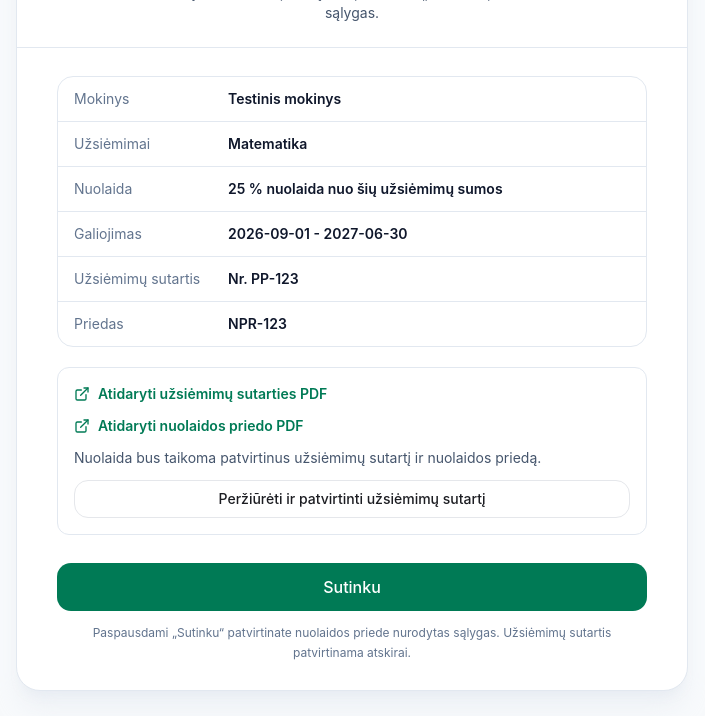
Test: SchoolDiscountAccept before the main contract is accepted › shows both documents before confirmation and keeps the main approval step after the annex is accepted
(page scrolled)
Click the button "Sutinku": (352, 587) x1=57 y1=563 x2=647 y2=611
(page scrolled)
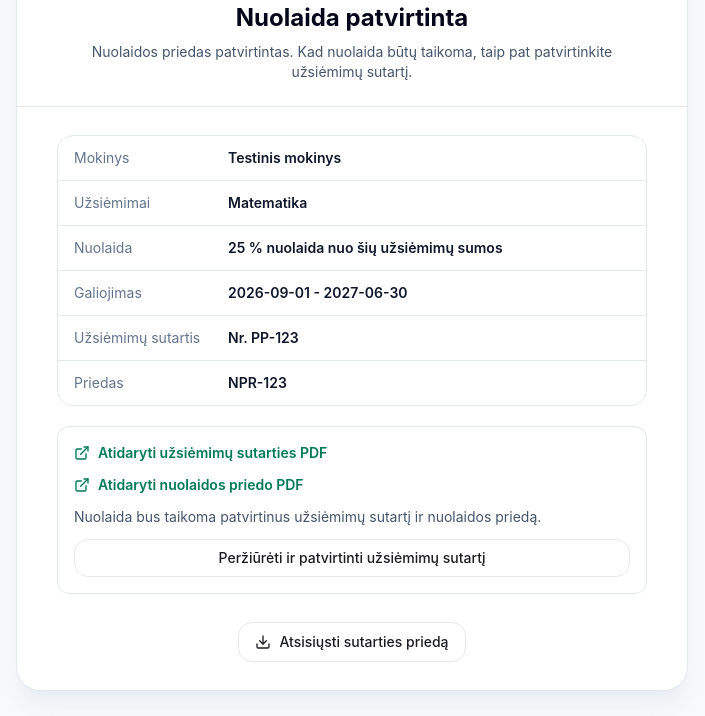
expect the link "Peržiūrėti ir patvirtinti užsiėmimų sutartį" is shown: met, box x1=74 y1=539 x2=630 y2=577
expect the heading "Nuolaida patvirtinta" is shown: met, box x1=236 y1=3 x2=468 y2=32
expect the text "Nuolaidos priedas patvirtintas. Kad nuolaida būtų taikoma, taip pat patvirtinkite užsiėmimų sutartį." is shown: met, box x1=92 y1=43 x2=612 y2=80
